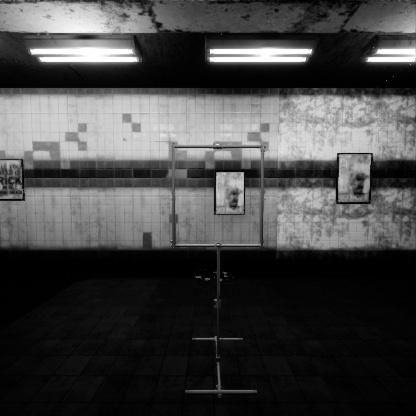gate: (172, 167, 274, 271)
